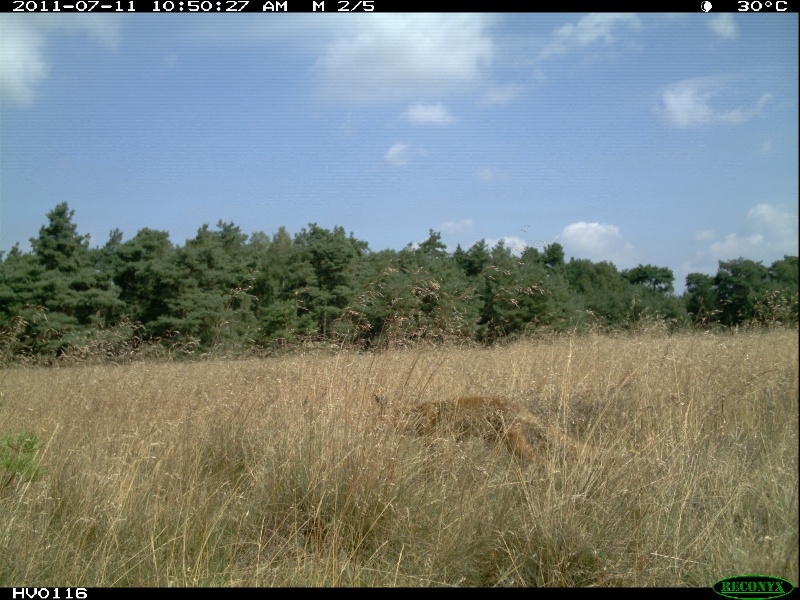fox: (364, 391, 619, 472)
